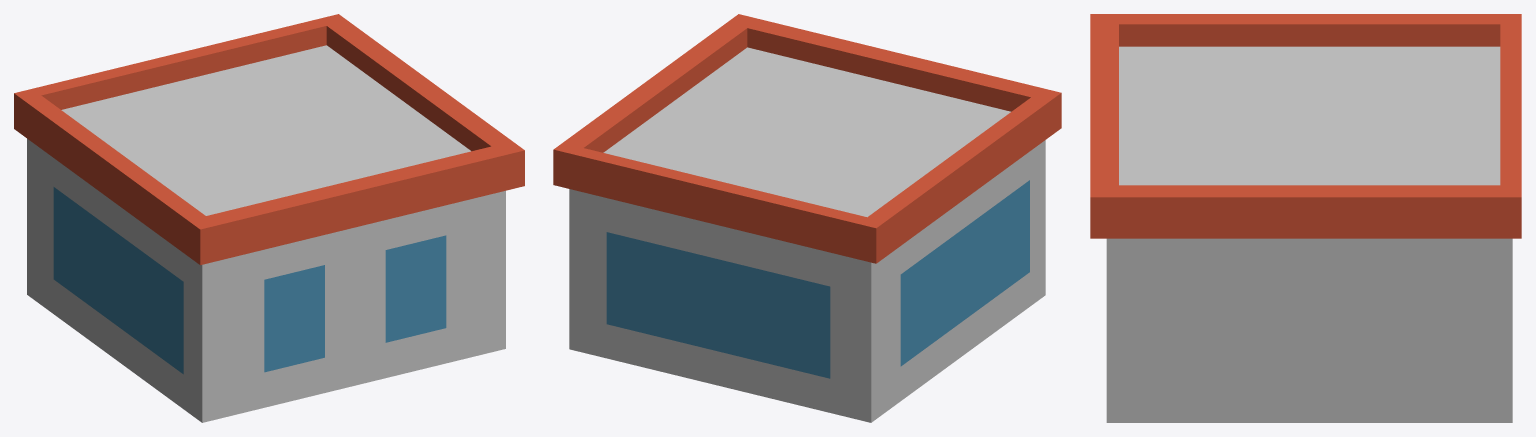
The model's file is shop_red.glb.
3 views of the same model, side by side, from view 1: azimuth 30°, elevation 25°; view 2: azimuth 150°, elevation 25°; view 3: azimuth 270°, elevation 25° (orthographic). The views are drawn at different scales.
Visible parts, largest first — view 1: building_small_orange; view 2: building_small_orange; view 3: building_small_orange.
Boxes of the visible parts, x1=… form: building_small_orange: x1=14, y1=14, x2=524, y2=422; building_small_orange: x1=553, y1=14, x2=1061, y2=422; building_small_orange: x1=1090, y1=14, x2=1521, y2=422.
Size of the model in its own units: 11.48 by 6.78 by 11.41.
1 material, 1 textured.
